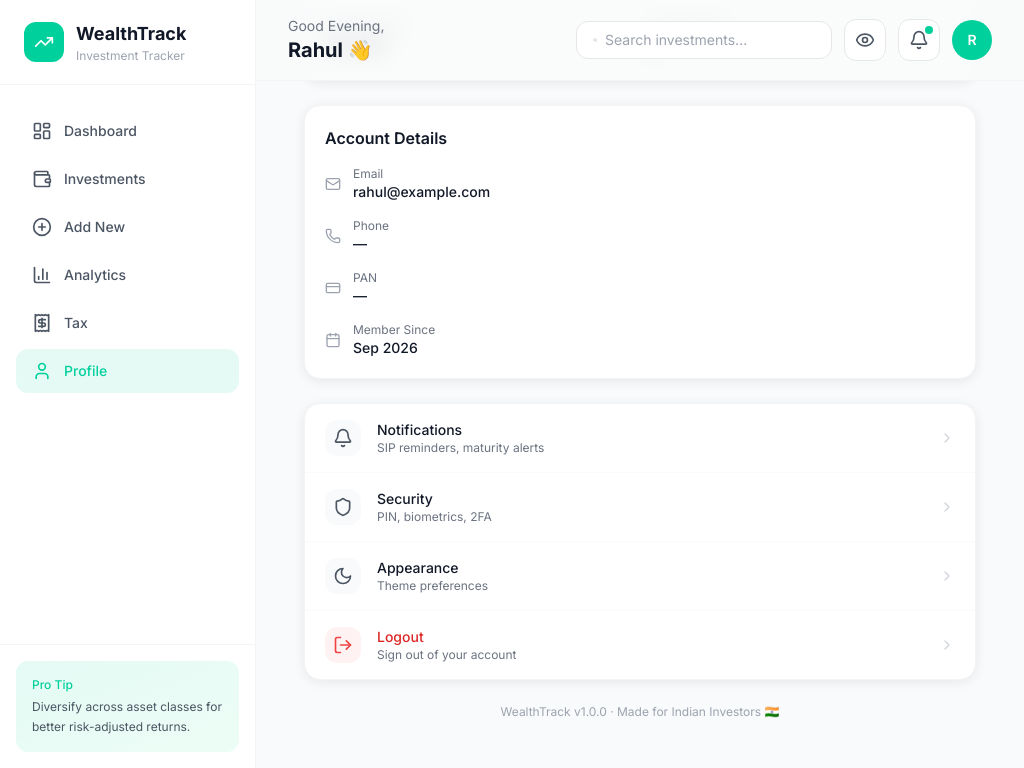
Scenario: authentication › logout clears the session
The width and height of the screenshot is (1024, 768).
(page scrolled)
Click the button "Logout Sign out of your account".
click(343, 645)  # box [305,610,975,679]
(page scrolled)
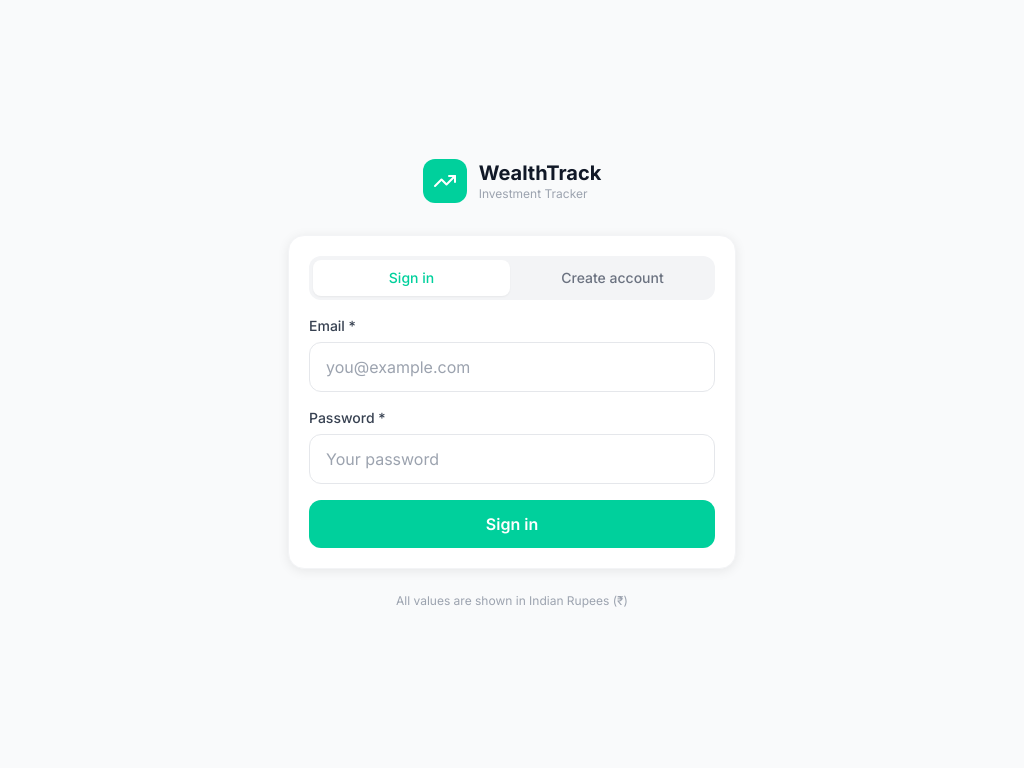
Expected: the 2nd button "Sign in" is shown, [309,500,715,548]
